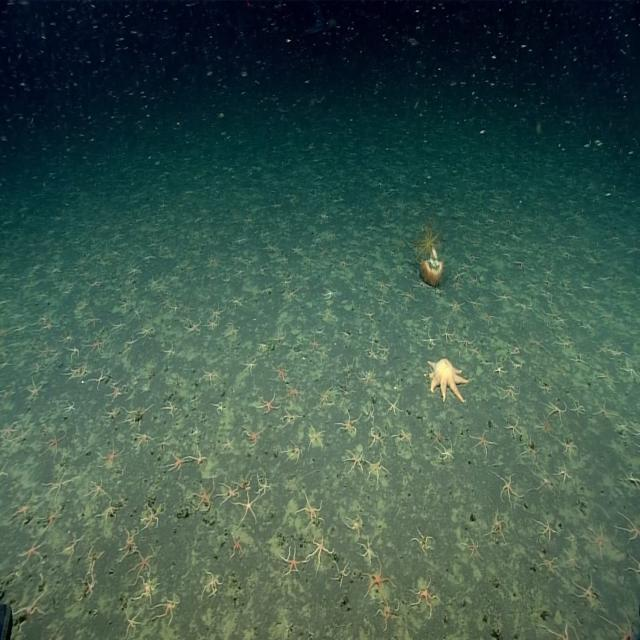brittle-stars: (366, 562, 394, 597), (411, 578, 438, 614), (309, 536, 333, 571), (132, 548, 156, 582), (609, 614, 640, 640), (47, 471, 76, 498), (496, 474, 520, 506), (574, 576, 598, 608), (616, 512, 640, 544), (16, 591, 44, 618), (299, 496, 324, 526), (377, 597, 401, 628), (544, 621, 582, 640), (190, 481, 212, 513), (531, 467, 554, 497), (158, 594, 181, 624), (281, 546, 304, 576), (42, 430, 67, 457), (22, 537, 46, 565), (100, 442, 124, 469), (239, 494, 260, 524), (591, 398, 613, 426), (587, 524, 608, 553), (472, 430, 494, 457), (412, 526, 434, 553), (202, 569, 222, 598), (12, 494, 34, 520), (366, 454, 386, 482), (358, 536, 378, 564), (489, 512, 507, 542), (463, 533, 482, 561), (125, 610, 144, 638), (136, 578, 158, 602), (126, 407, 150, 429), (339, 410, 360, 435), (536, 516, 556, 542), (546, 400, 568, 423), (100, 499, 120, 524), (121, 528, 139, 555), (140, 506, 160, 530), (345, 449, 364, 474), (259, 392, 280, 414), (283, 440, 302, 464), (217, 483, 238, 504), (41, 506, 60, 529), (89, 477, 107, 501), (284, 381, 302, 404), (523, 439, 541, 462), (308, 424, 325, 448), (335, 560, 352, 584), (168, 453, 189, 472), (556, 462, 574, 484), (627, 553, 640, 583), (540, 554, 559, 574), (501, 384, 522, 402), (244, 425, 262, 446), (27, 379, 44, 401), (564, 550, 581, 572), (87, 338, 107, 356), (82, 574, 97, 598), (625, 467, 640, 491), (537, 414, 553, 436), (0, 420, 17, 440), (440, 441, 456, 462), (318, 386, 333, 408), (232, 533, 245, 558), (37, 342, 55, 360), (556, 335, 575, 352), (385, 395, 401, 415), (388, 399, 404, 419), (507, 417, 522, 438), (395, 428, 412, 446), (136, 431, 154, 448), (358, 369, 375, 387), (346, 516, 362, 535), (441, 325, 456, 345), (256, 477, 270, 498), (203, 369, 220, 386), (108, 382, 124, 400), (399, 285, 415, 303), (458, 335, 476, 351), (465, 292, 481, 309), (242, 357, 258, 374), (164, 399, 180, 416), (480, 310, 497, 326), (282, 409, 298, 426), (273, 364, 288, 382), (562, 439, 576, 458), (570, 399, 584, 418), (342, 358, 355, 378), (210, 304, 226, 320), (105, 406, 121, 422), (86, 312, 102, 328), (226, 322, 241, 339), (190, 449, 205, 466), (493, 359, 507, 377), (450, 298, 464, 316), (360, 405, 374, 423), (492, 290, 510, 304), (91, 369, 105, 387), (565, 527, 578, 546), (186, 319, 201, 335), (423, 332, 438, 348), (132, 304, 145, 322), (164, 341, 176, 360), (509, 342, 524, 357), (138, 325, 154, 339), (431, 427, 444, 444), (322, 286, 337, 300), (111, 318, 126, 332), (514, 256, 529, 270), (362, 308, 376, 323), (376, 280, 392, 293), (206, 318, 220, 332), (67, 345, 81, 359), (212, 402, 225, 416), (129, 265, 143, 278), (182, 301, 195, 315), (493, 274, 505, 288), (366, 346, 377, 361), (65, 400, 77, 413), (290, 243, 302, 256), (381, 344, 392, 358), (235, 268, 247, 280), (362, 267, 374, 279), (190, 425, 199, 438)
